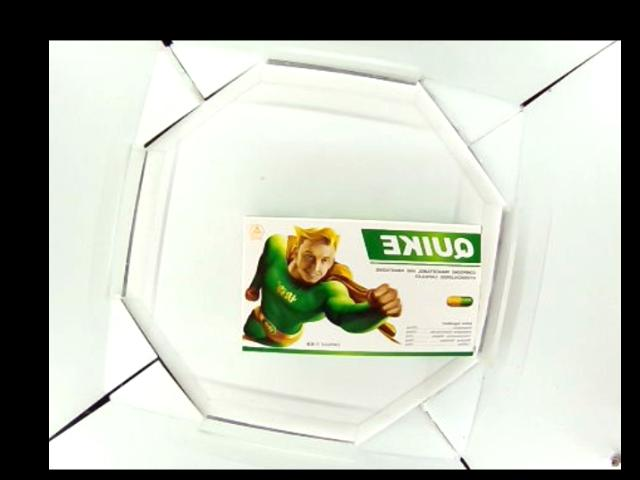Medicine: (240, 215, 482, 364)
